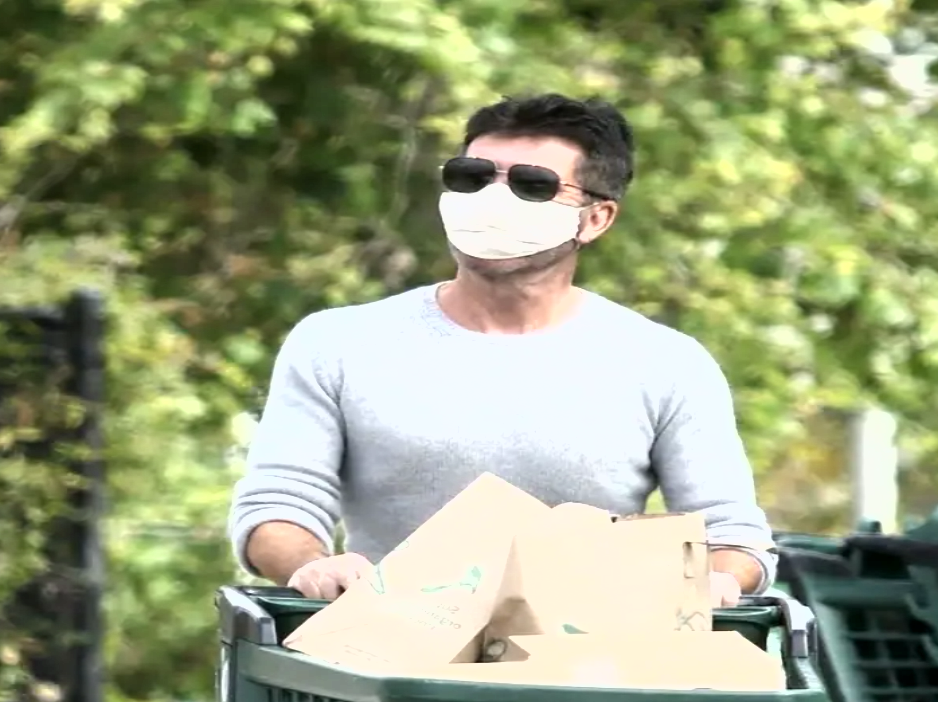mask_weared_incorrect: (430, 98, 637, 280)
